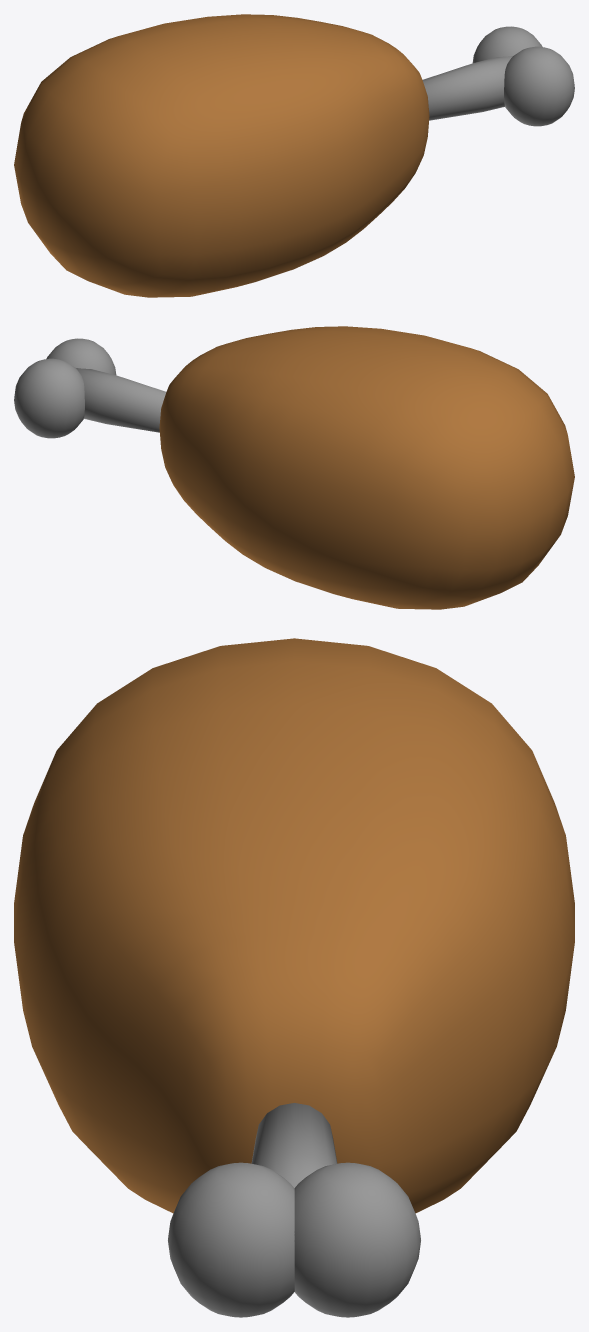
Rendered from Thigh01.fbx.
3 renders of one model, top to bottom at view 1: azimuth 30°, elevation 25°; view 2: azimuth 150°, elevation 25°; view 3: azimuth 270°, elevation 25°, orthographic. The views are drawn at different scales.
Visible parts, largest first — view 1: Thigh01; view 2: Thigh01; view 3: Thigh01.
Part boxes in pixels (<box>): Thigh01: <box>14,14,574,297</box>; Thigh01: <box>14,326,574,609</box>; Thigh01: <box>14,638,574,1317</box>.
Bounding box in the file's own units: 621 × 265 × 299.
